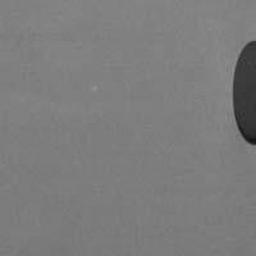Punching: (230, 41, 256, 147)
